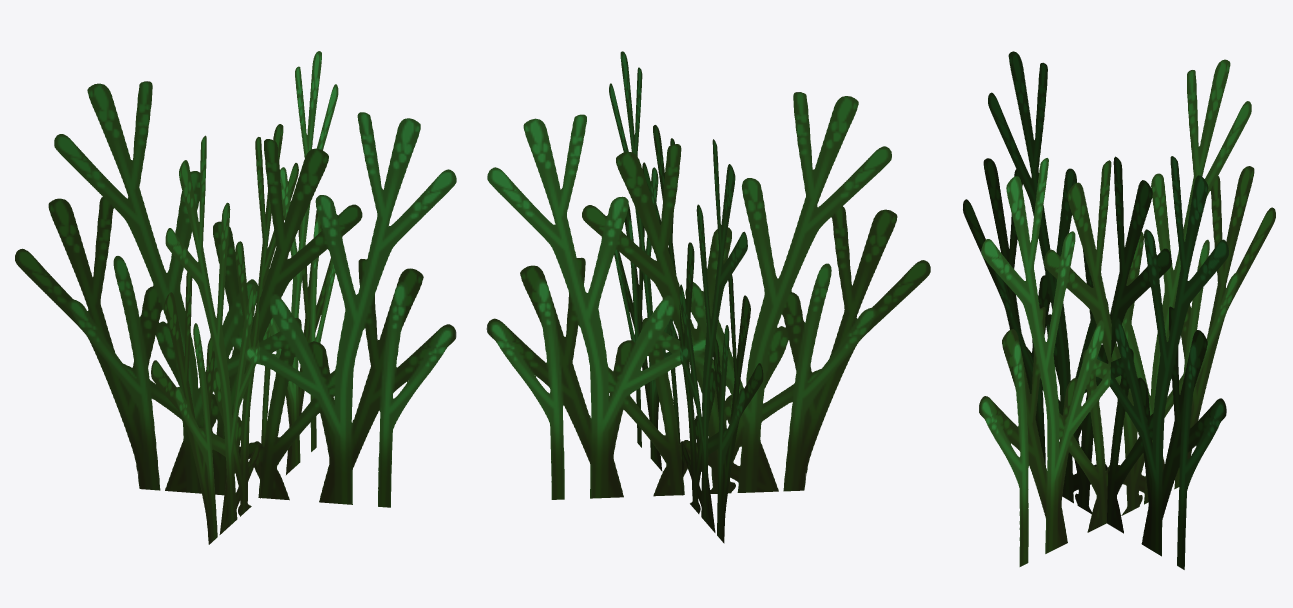
Rendered from SeaWeed_04b.FBX.
3 renders of one model, left to right at view 1: azimuth 30°, elevation 25°; view 2: azimuth 150°, elevation 25°; view 3: azimuth 270°, elevation 25°, orthographic. The views are drawn at different scales.
Parts seen in each view (by area): view 1: SeaWeed_04b; view 2: SeaWeed_04b; view 3: SeaWeed_04b.
Boxes of the visible parts, left/top/right/bottom form: SeaWeed_04b: left=15, top=51, right=456, bottom=544; SeaWeed_04b: left=486, top=51, right=930, bottom=543; SeaWeed_04b: left=963, top=51, right=1275, bottom=569.
Size of the model in its own units: 25.19 by 30.37 by 21.04.
